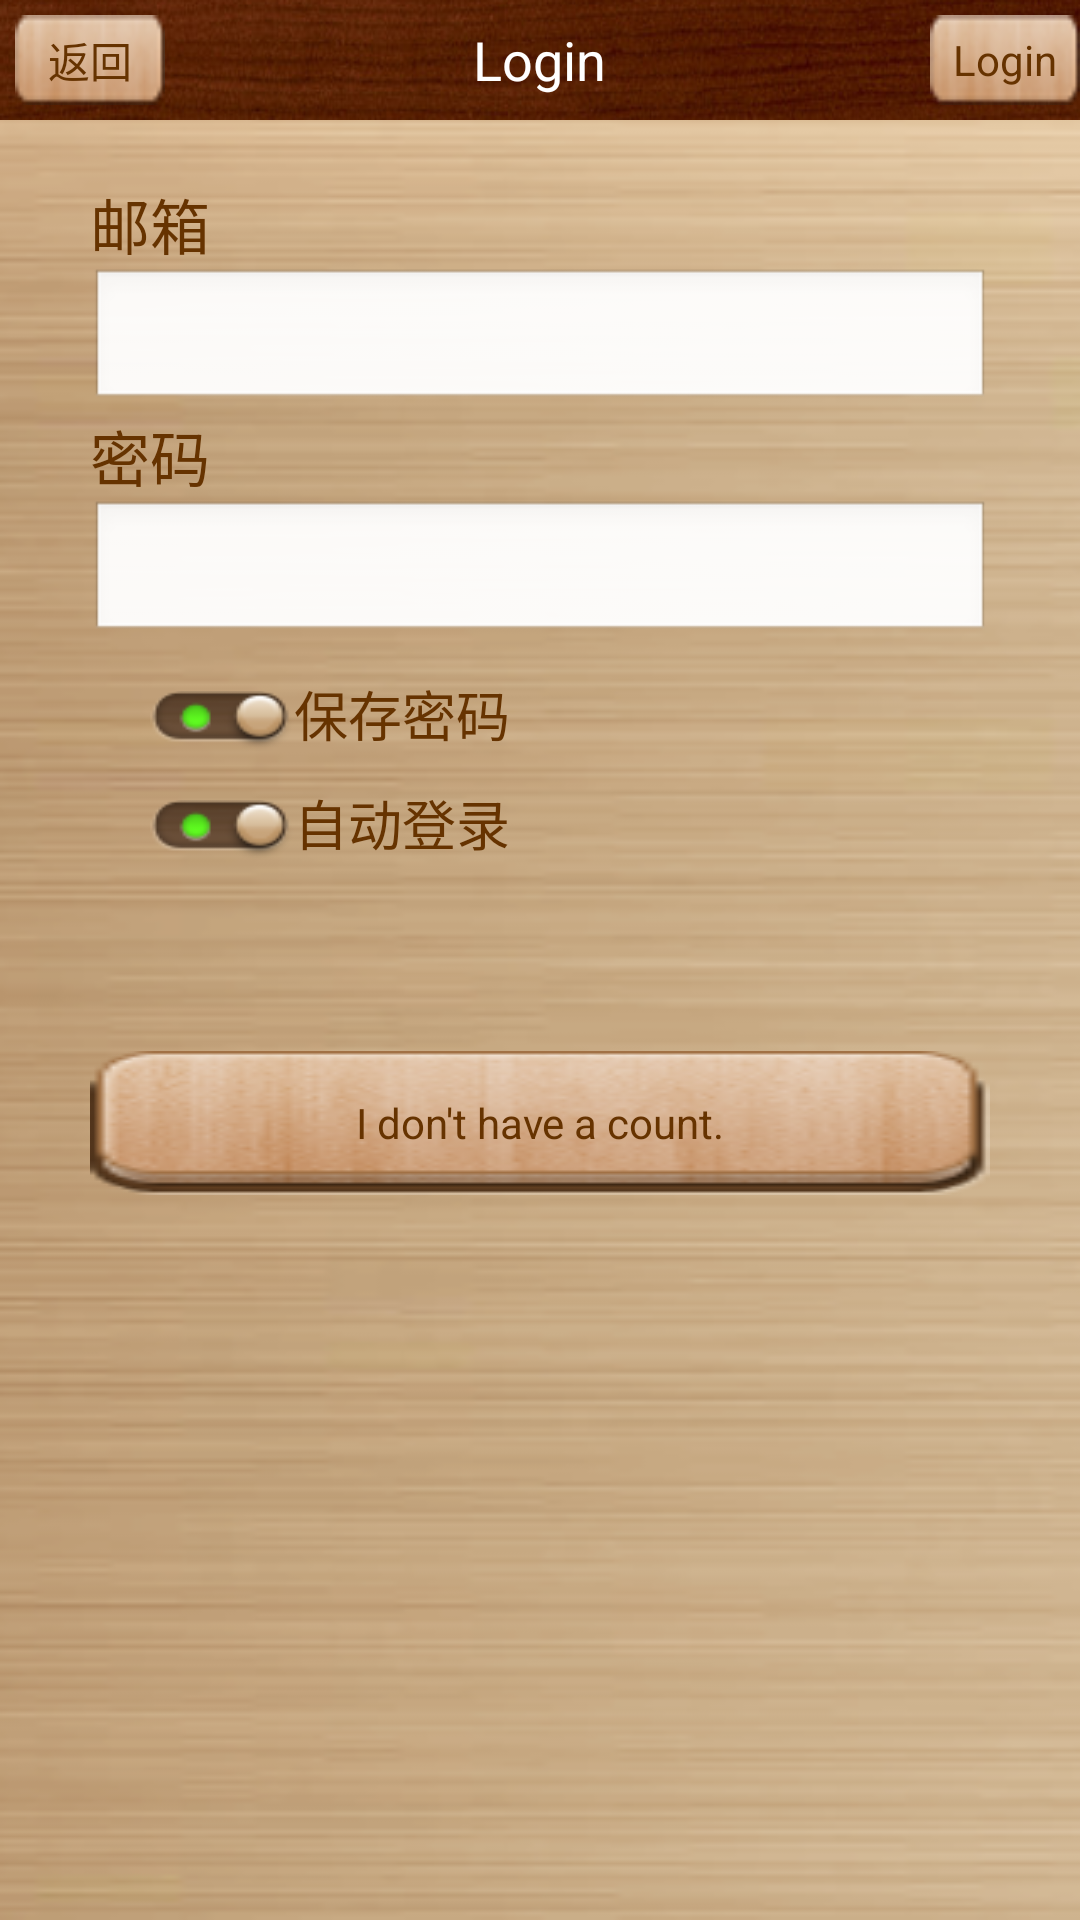

Icons on this 1080x1920 Android screen, each with the point to tap as point (x, y):
switch on: point (221, 718), point (221, 827)
